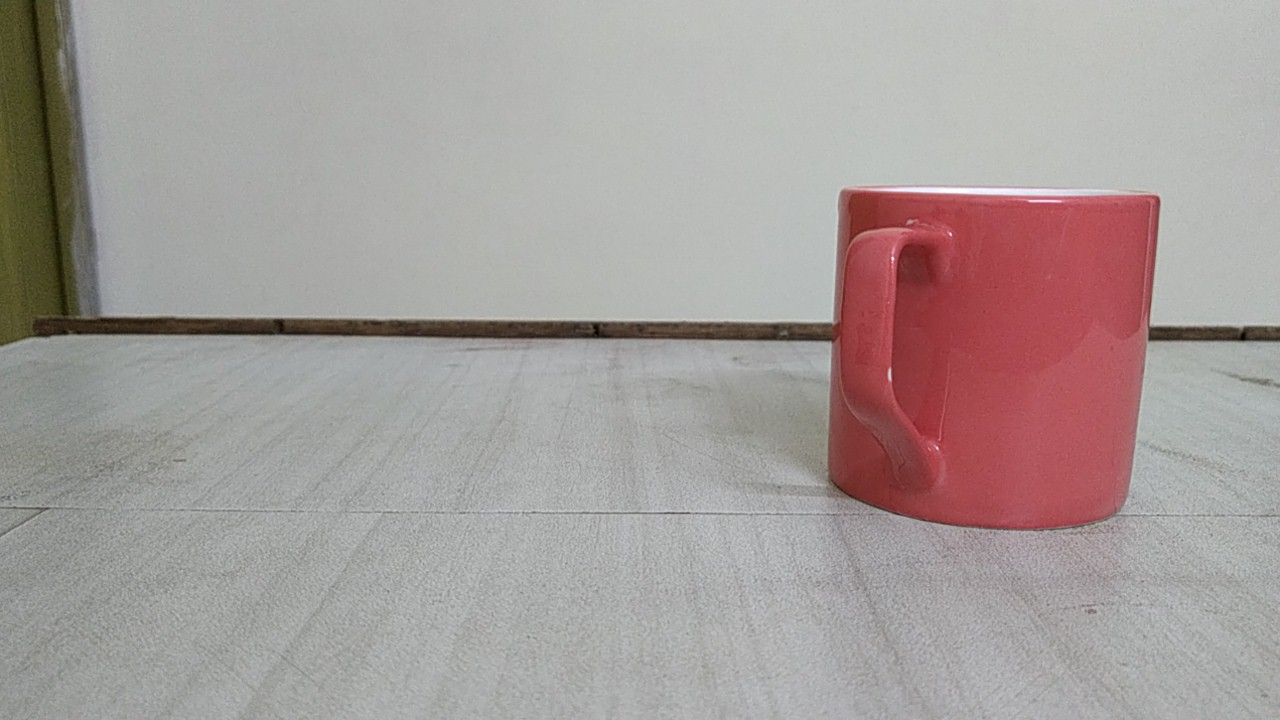cup: (805, 169, 1177, 565)
